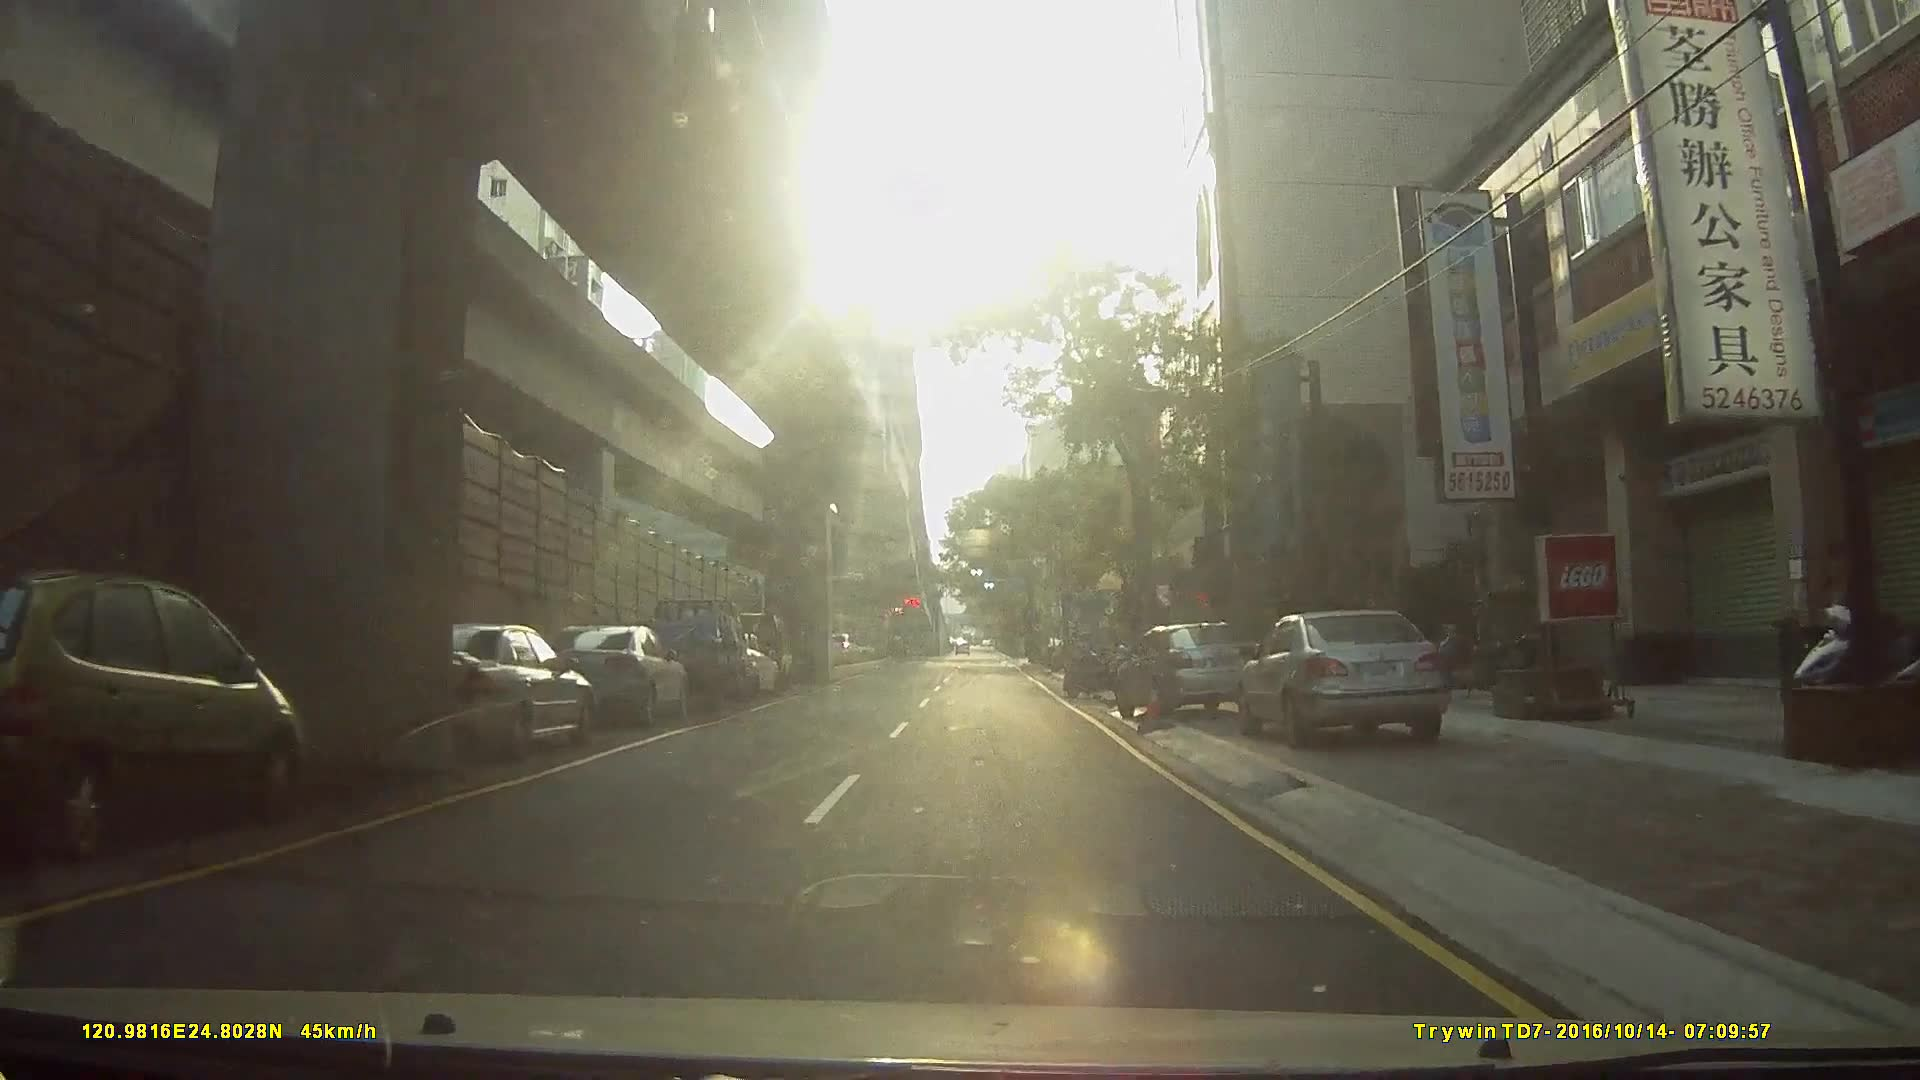rider: (1062, 628, 1121, 698)
vehicle: (1, 573, 311, 854), (1242, 605, 1460, 747), (389, 620, 591, 766), (530, 622, 687, 728), (1115, 619, 1270, 725), (626, 595, 748, 714)
